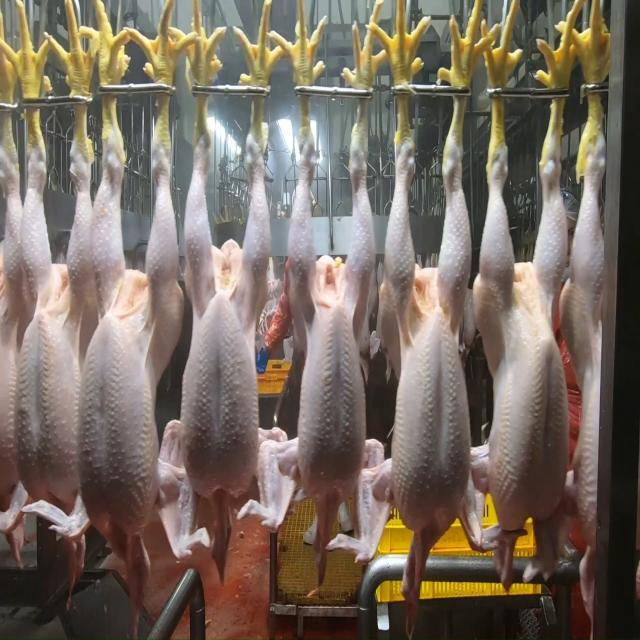chicken: (78, 142, 176, 538), (478, 103, 570, 520), (387, 108, 468, 539), (289, 103, 377, 493), (180, 129, 270, 500), (20, 143, 91, 517), (570, 132, 607, 548)
